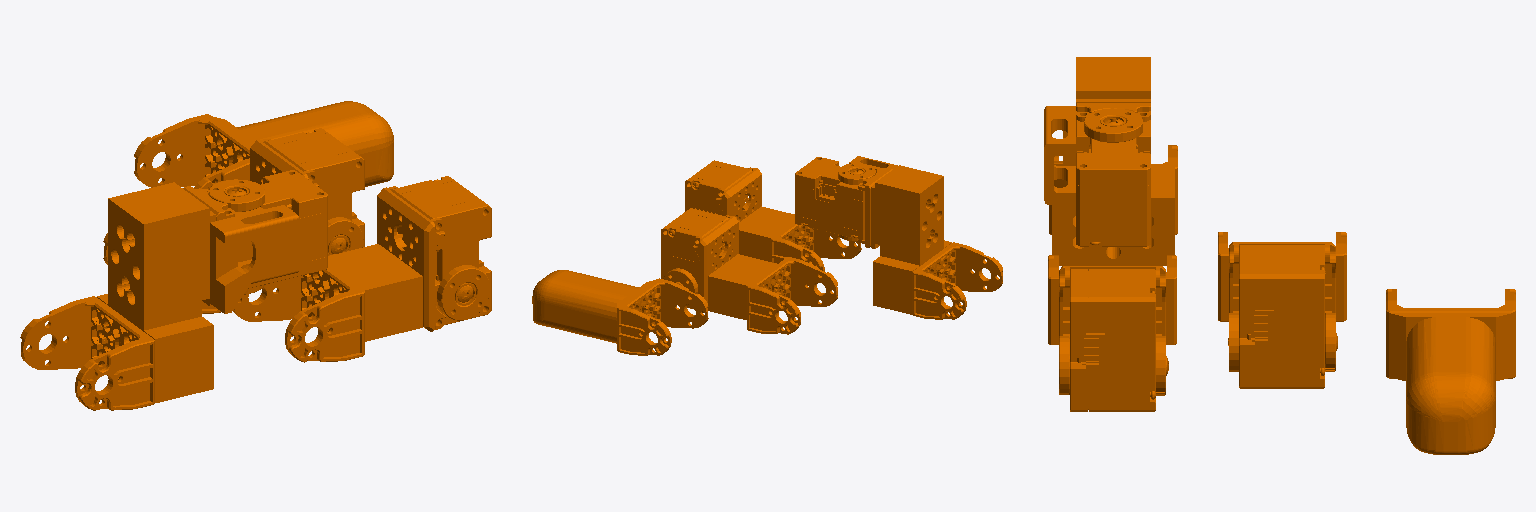
The robot description file, URDF, robot "onshape":
<robot name="onshape">
  <link name="palm_lower">
    <inertial>
      <origin xyz="0.0 0.0 0.0" rpy="0.0 -0.0 0.0"/>
      <mass value="0.237"/>
      <inertia ixx="0.000354094" ixy="-1.193e-06" ixz="-2.445e-06" iyy="0.000260915" iyz="-2.905e-06" izz="0.000529257"/>
    </inertial>
    <visual>
      <geometry>
        <mesh filename="../assets/leap/leap_hand/palm_lower.stl"/>
      </geometry>
      <origin xyz="-0.020095249652862544 0.025757756134899473 -0.034722403578460216" rpy="0.0 -0.0 0.0"/>
      <material name="palm_lower_material">
        <color rgba="0.6039215686274509 0.14901960784313725 0.14901960784313725 1.0"/>
      </material>
    </visual>
    <collision>
      <geometry>
        <mesh filename="../assets/leap/leap_hand/palm_lower.stl"/>
      </geometry>
      <origin xyz="-0.020095249652862544 0.025757756134899473 -0.034722403578460216" rpy="0.0 -0.0 0.0"/>
    </collision>
  </link>
  <link name="mcp_joint">
    <inertial>
      <origin xyz="0.0 0.0 0.0" rpy="0.0 -0.0 0.0"/>
      <mass value="0.044"/>
      <inertia ixx="1.1499e-05" ixy="3.049e-06" ixz="1.21e-07" iyy="7.796e-06" iyz="1.12e-07" izz="1.4759e-05"/>
    </inertial>
    <visual>
      <geometry>
        <mesh filename="../assets/leap/leap_hand/mcp_joint.stl"/>
      </geometry>
      <origin xyz="0.008406902261174496 0.0077662438597169954 0.014657354985032912" rpy="1.6375789613221e-15 -1.021047330249102e-30 1.7177968783327987e-31"/>
      <material name="mcp_joint_material">
        <color rgba="0.8666666666666667 0.8666666666666667 0.050980392156862744 1.0"/>
      </material>
    </visual>
    <collision>
      <geometry>
        <mesh filename="../assets/leap/leap_hand/mcp_joint.stl"/>
      </geometry>
      <origin xyz="0.008406902261174496 0.0077662438597169954 0.014657354985032912" rpy="1.6375789613221e-15 -1.021047330249102e-30 1.7177968783327987e-31"/>
    </collision>
  </link>
  <link name="pip">
    <inertial>
      <origin xyz="0.0 0.0 0.0" rpy="0.0 -0.0 0.0"/>
      <mass value="0.032"/>
      <inertia ixx="4.798e-06" ixy="1.2e-08" ixz="4e-09" iyy="2.862e-06" iyz="1.1e-08" izz="4.234e-06"/>
    </inertial>
    <visual>
      <geometry>
        <mesh filename="../assets/leap/leap_hand/pip.stl"/>
      </geometry>
      <origin xyz="0.009643363092271328 0.0002999999999999895 0.0007840340104173765" rpy="-1.5707963267948966 -1.5707963267948963 0.0"/>
      <material name="pip_material">
        <color rgba="0.7490196078431373 0.7490196078431373 0.7490196078431373 1.0"/>
      </material>
    </visual>
    <collision>
      <geometry>
        <mesh filename="../assets/leap/leap_hand/pip.stl"/>
      </geometry>
      <origin xyz="0.009643363092271328 0.0002999999999999895 0.0007840340104173765" rpy="-1.5707963267948966 -1.5707963267948963 0.0"/>
    </collision>
  </link>
  <link name="dip">
    <inertial>
      <origin xyz="0.0 0.0 0.0" rpy="0.0 -0.0 0.0"/>
      <mass value="0.037"/>
      <inertia ixx="5.542e-06" ixy="-6.07e-07" ixz="-1.7e-08" iyy="5.727e-06" iyz="-2.3e-08" izz="6.682e-06"/>
    </inertial>
    <visual>
      <geometry>
        <mesh filename="../assets/leap/leap_hand/dip.stl"/>
      </geometry>
      <origin xyz="0.021133352895225003 -0.00843211914670488 0.00978508816209524" rpy="-3.141592653589793 4.507511124216441e-32 4.439548105392361e-32"/>
      <material name="dip_material">
        <color rgba="0.8666666666666667 0.8666666666666667 0.050980392156862744 1.0"/>
      </material>
    </visual>
    <collision>
      <geometry>
        <mesh filename="../assets/leap/leap_hand/dip.stl"/>
      </geometry>
      <origin xyz="0.021133352895225003 -0.00843211914670488 0.00978508816209524" rpy="-3.141592653589793 4.507511124216441e-32 4.439548105392361e-32"/>
    </collision>
  </link>
  <link name="fingertip_long">
    <inertial>
      <origin xyz="0.0 0.0 0.0" rpy="0.0 -0.0 0.0"/>
      <mass value="0.016"/>
      <inertia ixx="3.368e-06" ixy="1.15e-07" ixz="0.0" iyy="1.556e-06" iyz="0.0" izz="2.863e-06"/>
    </inertial>
    <visual>
      <geometry>
        <mesh filename="custom_models/fingertip_long.stl"/>
      </geometry>
      <origin xyz="0.013286424108533503 -0.006114238386541987 0.014499999999999498" rpy="3.141592653589793 1.1993117970061735e-33 4.439548105392361e-32"/>
      <material name="fingertip_material">
        <color rgba="0.878 0.467 0.0 1.0"/>
      </material>
    </visual>
    <collision>
      <geometry>
        <mesh filename="custom_models/fingertip_long.stl"/>
      </geometry>
      <origin xyz="0.013286424108533503 -0.006114238386541987 0.014499999999999498" rpy="3.141592653589793 1.1993117970061735e-33 4.439548105392361e-32"/>
    </collision>
  </link>
  <link name="pip_4">
    <inertial>
      <origin xyz="0.0 0.0 0.0" rpy="0.0 -0.0 0.0"/>
      <mass value="0.032"/>
      <inertia ixx="4.798e-06" ixy="1.2e-08" ixz="4e-09" iyy="2.862e-06" iyz="1.1e-08" izz="4.234e-06"/>
    </inertial>
    <visual>
      <geometry>
        <mesh filename="../assets/leap/leap_hand/pip.stl"/>
      </geometry>
      <origin xyz="-0.005356636907728671 0.0002999999999999999 0.0007840340104173782" rpy="-1.5707963267948966 -1.5707963267948963 0.0"/>
      <material name="pip_material">
        <color rgba="0.7490196078431373 0.7490196078431373 0.7490196078431373 1.0"/>
      </material>
    </visual>
    <collision>
      <geometry>
        <mesh filename="../assets/leap/leap_hand/pip.stl"/>
      </geometry>
      <origin xyz="-0.005356636907728671 0.0002999999999999999 0.0007840340104173782" rpy="-1.5707963267948966 -1.5707963267948963 0.0"/>
    </collision>
  </link>
  <link name="thumb_pip">
    <inertial>
      <origin xyz="0.0 0.0 0.0" rpy="0.0 -0.0 0.0"/>
      <mass value="0.003"/>
      <inertia ixx="5.93e-07" ixy="0.0" ixz="0.0" iyy="5.49e-07" iyz="0.0" izz="2.24e-07"/>
    </inertial>
    <visual>
      <geometry>
        <mesh filename="../assets/leap/leap_hand/thumb_pip.stl"/>
      </geometry>
      <origin xyz="0.011961920770611187 -5.30825383648903e-16 -0.0158526489566642" rpy="1.5707963267948966 1.6050198443300153e-46 -3.9204996250525193e-59"/>
      <material name="thumb_pip_material">
        <color rgba="0.8666666666666667 0.8666666666666667 0.050980392156862744 1.0"/>
      </material>
    </visual>
    <collision>
      <geometry>
        <mesh filename="../assets/leap/leap_hand/thumb_pip.stl"/>
      </geometry>
      <origin xyz="0.011961920770611187 -5.30825383648903e-16 -0.0158526489566642" rpy="1.5707963267948966 1.6050198443300153e-46 -3.9204996250525193e-59"/>
    </collision>
  </link>
  <link name="thumb_dip">
    <inertial>
      <origin xyz="0.0 0.0 0.0" rpy="0.0 -0.0 0.0"/>
      <mass value="0.038"/>
      <inertia ixx="8.474e-06" ixy="2.41e-07" ixz="2.6e-08" iyy="3.841e-06" iyz="2.5e-08" izz="7.679e-06"/>
    </inertial>
    <visual>
      <geometry>
        <mesh filename="../assets/leap/leap_hand/thumb_dip.stl"/>
      </geometry>
      <origin xyz="0.043968715707239175 0.0579529529737092 -0.008628676449369476" rpy="1.94289029309401e-16 3.27515792264422e-15 1.112375852965736e-46"/>
      <material name="thumb_dip_material">
        <color rgba="0.8666666666666667 0.8666666666666667 0.050980392156862744 1.0"/>
      </material>
    </visual>
    <collision>
      <geometry>
        <mesh filename="../assets/leap/leap_hand/thumb_dip.stl"/>
      </geometry>
      <origin xyz="0.043968715707239175 0.0579529529737092 -0.008628676449369476" rpy="1.94289029309401e-16 3.27515792264422e-15 1.112375852965736e-46"/>
    </collision>
  </link>
  <link name="thumb_fingertip">
    <inertial>
      <origin xyz="0.0 0.0 0.0" rpy="0.0 -0.0 0.0"/>
      <mass value="0.049"/>
      <inertia ixx="2.0372e-05" ixy="-4.89e-07" ixz="-3e-08" iyy="4.336e-06" iyz="-9.7e-08" izz="1.9845e-05"/>
    </inertial>
    <visual>
      <geometry>
        <mesh filename="../assets/leap/leap_hand/thumb_fingertip.stl"/>
      </geometry>
      <origin xyz="0.06255953846266739 0.07845968291139699 0.048992911807332215" rpy="4.379057701015637e-47 -3.33066907387547e-16 1.2042408677791935e-46"/>
      <material name="thumb_fingertip_material">
        <color rgba="0.6039215686274509 0.14901960784313725 0.14901960784313725 1.0"/>
      </material>
    </visual>
    <collision>
      <geometry>
        <mesh filename="../assets/leap/leap_hand/thumb_fingertip.stl"/>
      </geometry>
      <origin xyz="0.06255953846266739 0.07845968291139699 0.048992911807332215" rpy="4.379057701015637e-47 -3.33066907387547e-16 1.2042408677791935e-46"/>
    </collision>
  </link>
  <link name="mcp_joint_2">
    <inertial>
      <origin xyz="0.0 0.0 0.0" rpy="0.0 -0.0 0.0"/>
      <mass value="0.044"/>
      <inertia ixx="1.1499e-05" ixy="3.049e-06" ixz="1.21e-07" iyy="7.796e-06" iyz="1.12e-07" izz="1.4759e-05"/>
    </inertial>
    <visual>
      <geometry>
        <mesh filename="../assets/leap/leap_hand/mcp_joint.stl"/>
      </geometry>
      <origin xyz="0.008406902261174496 0.0077662438597169954 0.014657354985032914" rpy="1.6375789613221e-15 -1.0076465469034e-30 2.1209300131419907e-61"/>
      <material name="mcp_joint_material">
        <color rgba="0.8666666666666667 0.8666666666666667 0.050980392156862744 1.0"/>
      </material>
    </visual>
    <collision>
      <geometry>
        <mesh filename="../assets/leap/leap_hand/mcp_joint.stl"/>
      </geometry>
      <origin xyz="0.008406902261174496 0.0077662438597169954 0.014657354985032914" rpy="1.6375789613221e-15 -1.0076465469034e-30 2.1209300131419907e-61"/>
    </collision>
  </link>
  <link name="pip_2">
    <inertial>
      <origin xyz="0.0 0.0 0.0" rpy="0.0 -0.0 0.0"/>
      <mass value="0.032"/>
      <inertia ixx="4.798e-06" ixy="1.2e-08" ixz="4e-09" iyy="2.862e-06" iyz="1.1e-08" izz="4.234e-06"/>
    </inertial>
    <visual>
      <geometry>
        <mesh filename="../assets/leap/leap_hand/pip.stl"/>
      </geometry>
      <origin xyz="0.009643363092271328 0.0002999999999999947 0.0007840340104173765" rpy="-1.5707963267948966 -1.5707963267948963 0.0"/>
      <material name="pip_material">
        <color rgba="0.7490196078431373 0.7490196078431373 0.7490196078431373 1.0"/>
      </material>
    </visual>
    <collision>
      <geometry>
        <mesh filename="../assets/leap/leap_hand/pip.stl"/>
      </geometry>
      <origin xyz="0.009643363092271328 0.0002999999999999947 0.0007840340104173765" rpy="-1.5707963267948966 -1.5707963267948963 0.0"/>
    </collision>
  </link>
  <link name="dip_2_long">
    <inertial>
      <origin xyz="0.0 0.0 0.0" rpy="0.0 -0.0 0.0"/>
      <mass value="0.037"/>
      <inertia ixx="5.542e-06" ixy="-6.07e-07" ixz="-1.7e-08" iyy="5.727e-06" iyz="-2.3e-08" izz="6.682e-06"/>
    </inertial>
    <visual>
      <geometry>
        <mesh filename="custom_models/dip_long.stl"/>
      </geometry>
      <origin xyz="0.021133352895225003 -0.008432119146704865 0.009785088162095237" rpy="-3.141592653589793 2.1146933785271956e-32 1.4408183216511869e-31"/>
      <material name="dip_material">
        <color rgba="0.878 0.467 0.0 1.0"/>
      </material>
    </visual>
    <collision>
      <geometry>
        <mesh filename="custom_models/dip_long.stl"/>
      </geometry>
      <origin xyz="0.021133352895225003 -0.008432119146704865 0.009785088162095237" rpy="-3.141592653589793 2.1146933785271956e-32 1.4408183216511869e-31"/>
    </collision>
  </link>
  <link name="fingertip_2">
    <inertial>
      <origin xyz="0.0 0.0 0.0" rpy="0.0 -0.0 0.0"/>
      <mass value="0.016"/>
      <inertia ixx="3.368e-06" ixy="1.15e-07" ixz="0.0" iyy="1.556e-06" iyz="0.0" izz="2.863e-06"/>
    </inertial>
    <visual>
      <geometry>
        <mesh filename="../assets/leap/leap_hand/fingertip.stl"/>
      </geometry>
      <origin xyz="0.013286424108533496 -0.006114238386542001 0.014499999999999496" rpy="3.141592653589793 -4.317959788283594e-33 1.4408183216511869e-31"/>
      <material name="fingertip_material">
        <color rgba="0.8666666666666667 0.8666666666666667 0.050980392156862744 1.0"/>
      </material>
    </visual>
    <collision>
      <geometry>
        <mesh filename="../assets/leap/leap_hand/fingertip.stl"/>
      </geometry>
      <origin xyz="0.013286424108533496 -0.006114238386542001 0.014499999999999496" rpy="3.141592653589793 -4.317959788283594e-33 1.4408183216511869e-31"/>
    </collision>
  </link>
  <link name="mcp_joint_3_long">
    <inertial>
      <origin xyz="0.0 0.0 0.0" rpy="0.0 -0.0 0.0"/>
      <mass value="0.044"/>
      <inertia ixx="1.1499e-05" ixy="3.049e-06" ixz="1.21e-07" iyy="7.796e-06" iyz="1.12e-07" izz="1.4759e-05"/>
    </inertial>
    <visual>
      <geometry>
        <mesh filename="custom_models/mcp_joint_long.stl"/>
      </geometry>
      <origin xyz="0.0084069022611745 0.007766243859716996 0.014657354985032914" rpy="1.6375789613221e-15 -1.0059504988632627e-30 5.729641584552035e-32"/>
      <material name="mcp_joint_material">
        <color rgba="0.878 0.467 0.0 1.0"/>
      </material>
    </visual>
    <collision>
      <geometry>
        <mesh filename="custom_models/mcp_joint_long.stl"/>
      </geometry>
      <origin xyz="0.0084069022611745 0.007766243859716996 0.014657354985032914" rpy="1.6375789613221e-15 -1.0059504988632627e-30 5.729641584552035e-32"/>
    </collision>
  </link>
  <link name="pip_3">
    <inertial>
      <origin xyz="0.0 0.0 0.0" rpy="0.0 -0.0 0.0"/>
      <mass value="0.032"/>
      <inertia ixx="4.798e-06" ixy="1.2e-08" ixz="4e-09" iyy="2.862e-06" iyz="1.1e-08" izz="4.234e-06"/>
    </inertial>
    <visual>
      <geometry>
        <mesh filename="../assets/leap/leap_hand/pip.stl"/>
      </geometry>
      <origin xyz="0.009643363092271331 0.00029999999999998084 0.0007840340104173765" rpy="-1.5707963267948966 -1.5707963267948963 0.0"/>
      <material name="pip_material">
        <color rgba="0.7490196078431373 0.7490196078431373 0.7490196078431373 1.0"/>
      </material>
    </visual>
    <collision>
      <geometry>
        <mesh filename="../assets/leap/leap_hand/pip.stl"/>
      </geometry>
      <origin xyz="0.009643363092271331 0.00029999999999998084 0.0007840340104173765" rpy="-1.5707963267948966 -1.5707963267948963 0.0"/>
    </collision>
  </link>
  <link name="dip_3_long">
    <inertial>
      <origin xyz="0.0 0.0 0.0" rpy="0.0 -0.0 0.0"/>
      <mass value="0.037"/>
      <inertia ixx="5.542e-06" ixy="-6.07e-07" ixz="-1.7e-08" iyy="5.727e-06" iyz="-2.3e-08" izz="6.682e-06"/>
    </inertial>
    <visual>
      <geometry>
        <mesh filename="custom_models/dip_long.stl"/>
      </geometry>
      <origin xyz="0.021133352895225006 -0.008432119146704865 0.009785088162095237" rpy="-3.141592653589793 -1.4095651113919093e-33 1.5565411607615035e-32"/>
      <material name="dip_material">
        <color rgba="0.878 0.467 0.0 1.0"/>
      </material>
    </visual>
    <collision>
      <geometry>
        <mesh filename="custom_models/dip_long.stl"/>
      </geometry>
      <origin xyz="0.021133352895225006 -0.008432119146704865 0.009785088162095237" rpy="-3.141592653589793 -1.4095651113919093e-33 1.5565411607615035e-32"/>
    </collision>
  </link>
  <link name="fingertip_3">
    <inertial>
      <origin xyz="0.0 0.0 0.0" rpy="0.0 -0.0 0.0"/>
      <mass value="0.016"/>
      <inertia ixx="3.368e-06" ixy="1.15e-07" ixz="0.0" iyy="1.556e-06" iyz="0.0" izz="2.863e-06"/>
    </inertial>
    <visual>
      <geometry>
        <mesh filename="../assets/leap/leap_hand/fingertip.stl"/>
      </geometry>
      <origin xyz="0.013286424108533501 -0.006114238386541987 0.0144999999999995" rpy="3.141592653589793 8.61707169505754e-33 1.5565411607615035e-32"/>
      <material name="fingertip_material">
        <color rgba="0.8666666666666667 0.8666666666666667 0.050980392156862744 1.0"/>
      </material>
    </visual>
    <collision>
      <geometry>
        <mesh filename="../assets/leap/leap_hand/fingertip.stl"/>
      </geometry>
      <origin xyz="0.013286424108533501 -0.006114238386541987 0.0144999999999995" rpy="3.141592653589793 8.61707169505754e-33 1.5565411607615035e-32"/>
    </collision>
  </link>
  <joint name="1" type="revolute">
    <parent link="palm_lower"/>
    <child link="mcp_joint"/>
    <origin xyz="-0.007095249652862546 0.023057756134899472 -0.01872240357846022" rpy="1.570796326794895 1.5707963267948946 0.0"/>
    <axis xyz="0.0 0.0 -1.0"/>
    <limit effort="0.95" velocity="8.48" lower="-0.314" upper="2.23"/>
  </joint>
  <joint name="0" type="revolute">
    <parent link="mcp_joint"/>
    <child link="pip"/>
    <origin xyz="-0.012200000000000008 0.038099999999999995 0.0145" rpy="-1.5707963267948966 -1.0065212660796337e-15 1.5707963267948943"/>
    <axis xyz="0.0 0.0 -1.0"/>
    <limit effort="0.95" velocity="8.48" lower="-1.047" upper="1.047"/>
  </joint>
  <joint name="2" type="revolute">
    <parent link="pip"/>
    <child link="dip"/>
    <origin xyz="0.014999999999999968 0.014299999999999905 -0.012999999999999824" rpy="1.570796326794896 -1.5707963267948963 0.0"/>
    <axis xyz="0.0 0.0 -1.0"/>
    <limit effort="0.95" velocity="8.48" lower="-0.506" upper="1.885"/>
  </joint>
  <joint name="3" type="revolute">
    <parent link="dip"/>
    <child link="fingertip_long"/>
    <origin xyz="-4.088058249557269e-09 -0.03610000421036737 0.0002000000000000786" rpy="4.5935029425113685e-17 -2.8730071914463795e-16 4.439548105392361e-32"/>
    <axis xyz="0.0 0.0 -1.0"/>
    <limit effort="0.95" velocity="8.48" lower="-0.366" upper="2.042"/>
  </joint>
  <joint name="12" type="revolute">
    <parent link="palm_lower"/>
    <child link="pip_4"/>
    <origin xyz="-0.06939524965286253 -0.0012422438651005258 -0.021622403578460216" rpy="-8.238176646493942e-17 1.5707963267948957 0.0"/>
    <axis xyz="0.0 0.0 -1.0"/>
    <limit effort="0.95" velocity="8.48" lower="-0.349" upper="2.094"/>
  </joint>
  <joint name="13" type="revolute">
    <parent link="pip_4"/>
    <child link="thumb_pip"/>
    <origin xyz="-2.7755575615628914e-17 0.014300000000000005 -0.013000000000000012" rpy="1.570796326794896 -1.5707963267948963 0.0"/>
    <axis xyz="0.0 0.0 -1.0"/>
    <limit effort="0.95" velocity="8.48" lower="-0.47" upper="2.443"/>
  </joint>
  <joint name="14" type="revolute">
    <parent link="thumb_pip"/>
    <child link="thumb_dip"/>
    <origin xyz="0.0 0.014499999999999966 -0.017000000000000053" rpy="-1.5707963267948966 1.6050198443300131e-46 -1.9721522630516625e-31"/>
    <axis xyz="0.0 0.0 -1.0"/>
    <limit effort="0.95" velocity="8.48" lower="-1.2" upper="1.9"/>
  </joint>
  <joint name="15" type="revolute">
    <parent link="thumb_dip"/>
    <child link="thumb_fingertip"/>
    <origin xyz="-1.249000902703301e-16 0.046599999999999864 0.0001999999999999771" rpy="1.506395849149178e-44 5.423418723393526e-31 3.141592653589793"/>
    <axis xyz="0.0 0.0 -1.0"/>
    <limit effort="0.95" velocity="8.48" lower="-1.34" upper="1.88"/>
  </joint>
  <joint name="5" type="revolute">
    <parent link="palm_lower"/>
    <child link="mcp_joint_2"/>
    <origin xyz="-0.007095249652862546 -0.022392243865100525 -0.01872240357846022" rpy="1.570796326794895 1.5707963267948946 0.0"/>
    <axis xyz="0.0 0.0 -1.0"/>
    <limit effort="0.95" velocity="8.48" lower="-0.314" upper="2.23"/>
  </joint>
  <joint name="4" type="revolute">
    <parent link="mcp_joint_2"/>
    <child link="pip_2"/>
    <origin xyz="-0.012200000000000008 0.038099999999999995 0.0145" rpy="-1.5707963267948966 -1.0065212660796337e-15 1.5707963267948943"/>
    <axis xyz="0.0 0.0 -1.0"/>
    <limit effort="0.95" velocity="8.48" lower="-1.047" upper="1.047"/>
  </joint>
  <joint name="6" type="revolute">
    <parent link="pip_2"/>
    <child link="dip_2_long"/>
    <origin xyz="0.014999999999999968 0.014299999999999905 -0.012999999999999824" rpy="1.570796326794896 -1.5707963267948963 0.0"/>
    <axis xyz="0.0 0.0 -1.0"/>
    <limit effort="0.95" velocity="8.48" lower="-0.506" upper="1.885"/>
  </joint>
  <joint name="7" type="revolute">
    <parent link="dip_2_long"/>
    <child link="fingertip_2"/>
    <origin xyz="-4.0880582495572692636e-09 -0.051100004210367367397 0.00020000000000007858714" rpy="4.5935029425113685e-17 -2.8730071914463795e-16 4.439548105392361e-32"/>
    <axis xyz="0.0 0.0 -1.0"/>
    <limit effort="0.95" velocity="8.48" lower="-0.366" upper="2.042"/>
  </joint>
  <joint name="9" type="revolute">
    <parent link="palm_lower"/>
    <child link="mcp_joint_3_long"/>
    <origin xyz="-0.007095249652862546 -0.06784224386510052 -0.01872240357846022" rpy="1.570796326794895 1.5707963267948946 0.0"/>
    <axis xyz="0.0 0.0 -1.0"/>
    <limit effort="0.95" velocity="8.48" lower="-0.314" upper="2.23"/>
  </joint>
  <joint name="8" type="revolute">
    <parent link="mcp_joint_3_long"/>
    <child link="pip_3"/>
    <origin xyz="-0.012200000000000007713 0.053099999999999994982 0.014500000000000000736" rpy="-1.5707963267948966 -1.0065212660796337e-15 1.5707963267948943"/>
    <axis xyz="0.0 0.0 -1.0"/>
    <limit effort="0.95" velocity="8.48" lower="-1.047" upper="1.047"/>
  </joint>
  <joint name="10" type="revolute">
    <parent link="pip_3"/>
    <child link="dip_3_long"/>
    <origin xyz="0.014999999999999968 0.014299999999999905 -0.012999999999999824" rpy="1.570796326794896 -1.5707963267948963 0.0"/>
    <axis xyz="0.0 0.0 -1.0"/>
    <limit effort="0.95" velocity="8.48" lower="-0.506" upper="1.885"/>
  </joint>
  <joint name="11" type="revolute">
    <parent link="dip_3_long"/>
    <child link="fingertip_3"/>
    <origin xyz="-4.0880582495572692636e-09 -0.051100004210367367397 0.00020000000000007858714" rpy="4.5935029425113685e-17 -2.8730071914463795e-16 4.439548105392361e-32"/>
    <axis xyz="0.0 0.0 -1.0"/>
    <limit effort="0.95" velocity="8.48" lower="-0.366" upper="2.042"/>
  </joint>
</robot>

--- Facts derived from the render (not from the file) ---
Views: 3 orthographic renders of the robot side by side, from view 1: azimuth 30°, elevation 25°; view 2: azimuth 150°, elevation 25°; view 3: azimuth 270°, elevation 25°.
Robot: onshape — 17 links, 16 joints (16 revolute); root link palm_lower; default pose: every joint at zero.
Links seen in each view (by area): view 1: mcp_joint_3_long, dip_3_long, fingertip_long, dip_2_long; view 2: mcp_joint_3_long, dip_2_long, fingertip_long, dip_3_long; view 3: mcp_joint_3_long, dip_2_long, dip_3_long, fingertip_long.
Link boxes in pixels (<box>): mcp_joint_3_long: <box>20,170,327,410</box>; dip_3_long: <box>233,176,491,362</box>; fingertip_long: <box>134,101,393,189</box>; dip_2_long: <box>103,128,364,313</box>; mcp_joint_3_long: <box>795,156,1002,319</box>; dip_2_long: <box>661,208,837,334</box>; fingertip_long: <box>532,270,708,355</box>; dip_3_long: <box>685,160,861,285</box>; mcp_joint_3_long: <box>1044,57,1177,265</box>; dip_2_long: <box>1218,232,1346,388</box>; dip_3_long: <box>1048,255,1176,411</box>; fingertip_long: <box>1386,289,1515,454</box>.
Size in the robot's own frame: 0.1616 by 0.1263 by 0.0549 metres.
4 mesh visuals loaded from 11 distinct referenced files (3 binary STL); not drawn: 13 (reference not matched to a file when rendering).